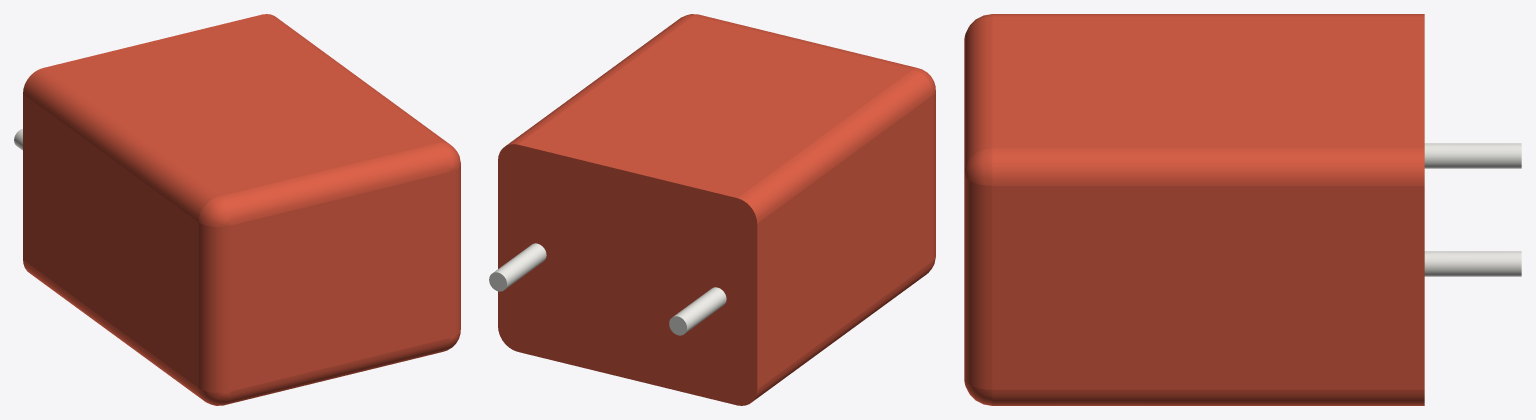
Rendered from C_Rect_L7.2mm_W5.5mm_P5.00mm_FKS2_FKP2_MKS2_MKP2.glb.
3 renders of one model, left to right at view 1: azimuth 30°, elevation 25°; view 2: azimuth 150°, elevation 25°; view 3: azimuth 270°, elevation 25°, orthographic. The views are drawn at different scales.
Parts seen in each view (by area): view 1: Shape_IndexedFaceSet.009, Shape_IndexedFaceSet.007, Shape_IndexedFaceSet, Shape_IndexedFaceSet.017, Shape_IndexedFaceSet.004, Shape_IndexedFaceSet.002, Shape_IndexedFaceSet.015, Shape_IndexedFaceSet.016, Shape_IndexedFaceSet.001, Shape_IndexedFaceSet.011, Shape_IndexedFaceSet.008; view 2: Shape_IndexedFaceSet.003, Shape_IndexedFaceSet.009, Shape_IndexedFaceSet, Shape_IndexedFaceSet.004, Shape_IndexedFaceSet.001, Shape_IndexedFaceSet.011, Shape_IndexedFaceSet.013, Shape_IndexedFaceSet.014, Shape_IndexedFaceSet.017, Shape_IndexedFaceSet.002; view 3: Shape_IndexedFaceSet.012, Shape_IndexedFaceSet.009, Shape_IndexedFaceSet.011, Shape_IndexedFaceSet.010, Shape_IndexedFaceSet.016, Shape_IndexedFaceSet.017, Shape_IndexedFaceSet.013, Shape_IndexedFaceSet.014, Shape_IndexedFaceSet.004, Shape_IndexedFaceSet.019.
Part boxes in pixels (box(x1,y1,x2,y2)): Shape_IndexedFaceSet.009: box(43, 14, 437, 196); Shape_IndexedFaceSet.007: box(229, 172, 449, 391); Shape_IndexedFaceSet: box(23, 94, 198, 387); Shape_IndexedFaceSet.017: box(219, 143, 449, 225); Shape_IndexedFaceSet.004: box(23, 68, 217, 221); Shape_IndexedFaceSet.002: box(198, 222, 229, 392); Shape_IndexedFaceSet.015: box(224, 338, 449, 405); Shape_IndexedFaceSet.016: box(449, 164, 460, 337); Shape_IndexedFaceSet.001: box(23, 260, 203, 400); Shape_IndexedFaceSet.011: box(262, 14, 448, 143); Shape_IndexedFaceSet.008: box(198, 196, 229, 226); Shape_IndexedFaceSet.003: box(498, 144, 757, 405); Shape_IndexedFaceSet.009: box(518, 16, 912, 197); Shape_IndexedFaceSet: box(757, 95, 932, 388); Shape_IndexedFaceSet.004: box(737, 69, 932, 223); Shape_IndexedFaceSet.001: box(752, 261, 932, 401); Shape_IndexedFaceSet.011: box(506, 15, 692, 145); Shape_IndexedFaceSet.013: box(673, 287, 726, 333); Shape_IndexedFaceSet.014: box(493, 243, 546, 289); Shape_IndexedFaceSet.017: box(694, 14, 916, 69); Shape_IndexedFaceSet.002: box(933, 91, 935, 260); Shape_IndexedFaceSet.012: box(992, 186, 1424, 389); Shape_IndexedFaceSet.009: box(992, 16, 1424, 148); Shape_IndexedFaceSet.011: box(992, 148, 1424, 185); Shape_IndexedFaceSet.010: box(992, 389, 1424, 405); Shape_IndexedFaceSet.016: box(964, 175, 992, 389); Shape_IndexedFaceSet.017: box(964, 16, 992, 170); Shape_IndexedFaceSet.013: box(1424, 143, 1521, 168); Shape_IndexedFaceSet.014: box(1424, 251, 1521, 276); Shape_IndexedFaceSet.004: box(992, 14, 1424, 16); Shape_IndexedFaceSet.019: box(964, 148, 992, 185).
Size of the model in its own units: 2.84 by 2.17 by 4.29.
